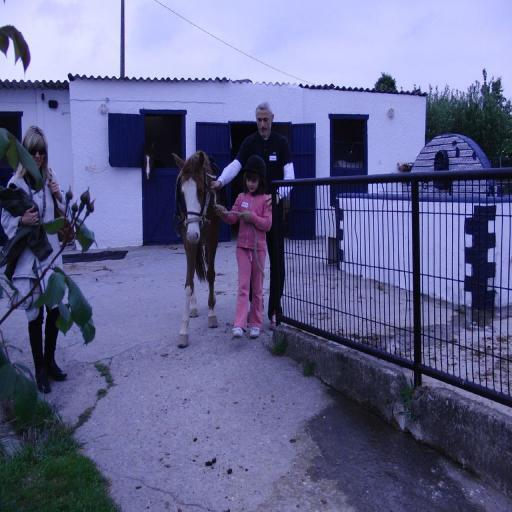horse: (174, 149, 223, 352)
